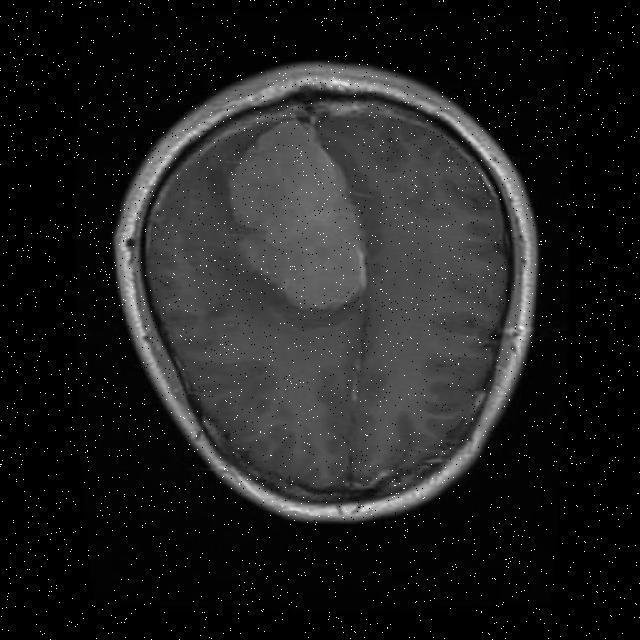Meningioma: (230, 120, 364, 309)
